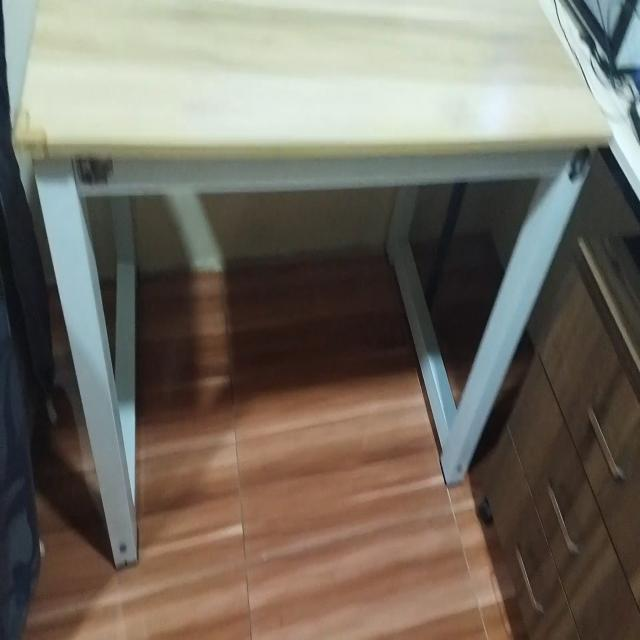table: (11, 0, 602, 539)
